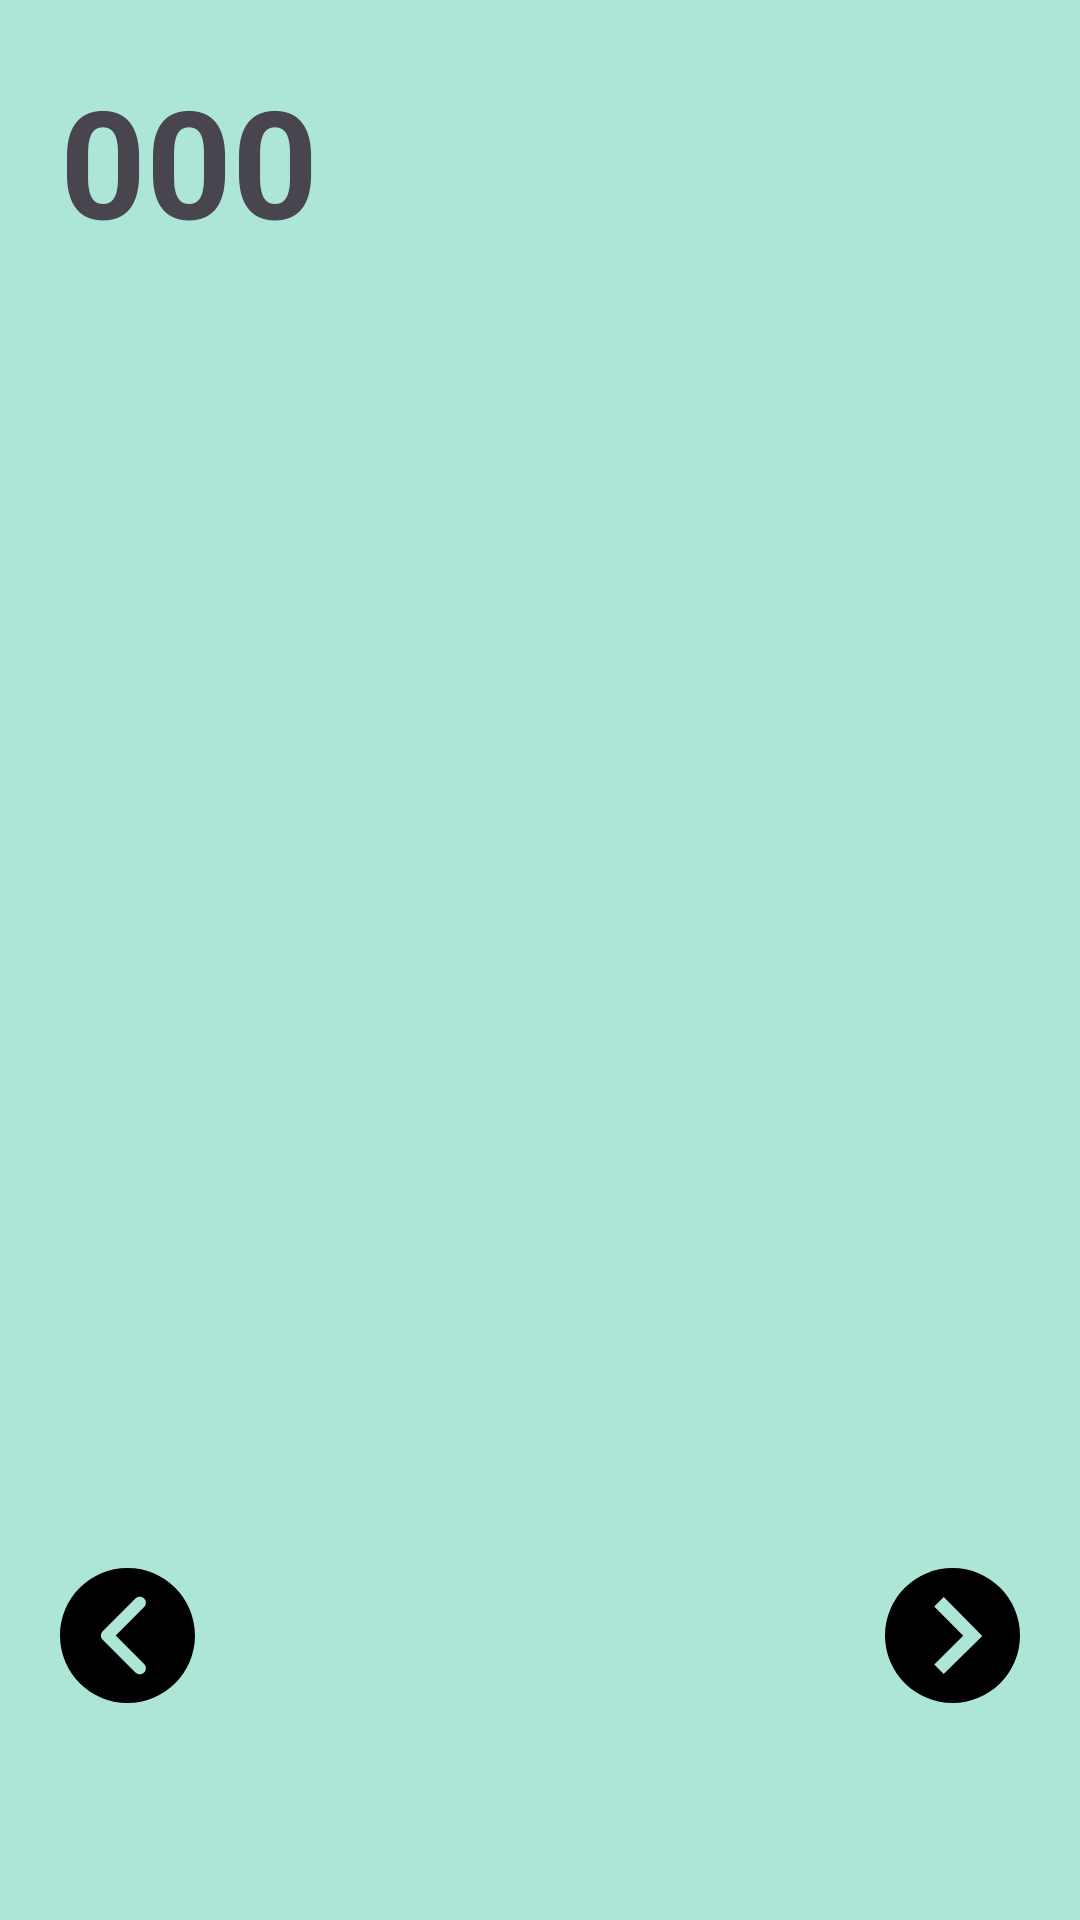

Icons on this 1080px×1920px Android screen, each with the point to tap as [x,y]:
left: [127,1635]
right: [952,1635]
